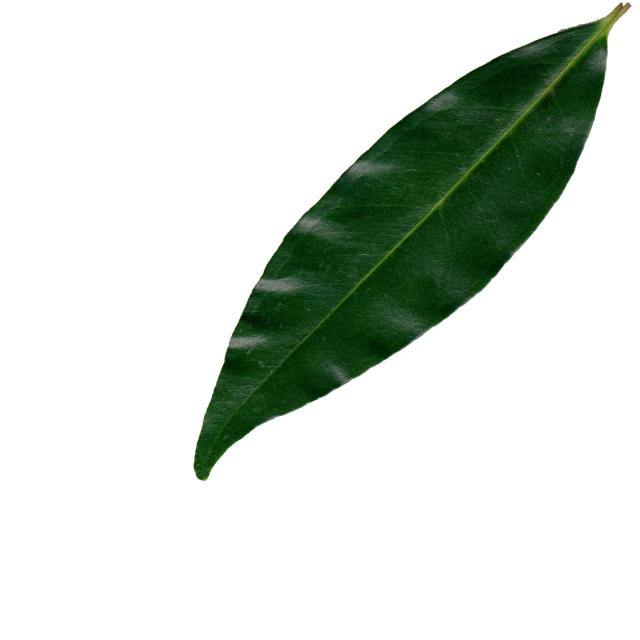Medicinal-Rose Apple: (192, 0, 640, 483)
